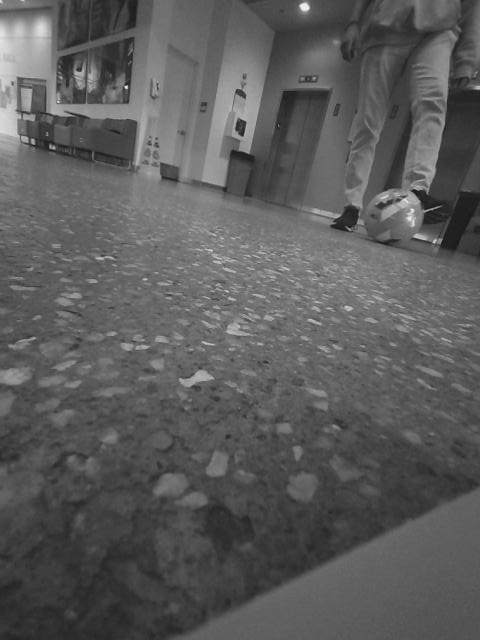ball: (362, 186, 426, 246)
